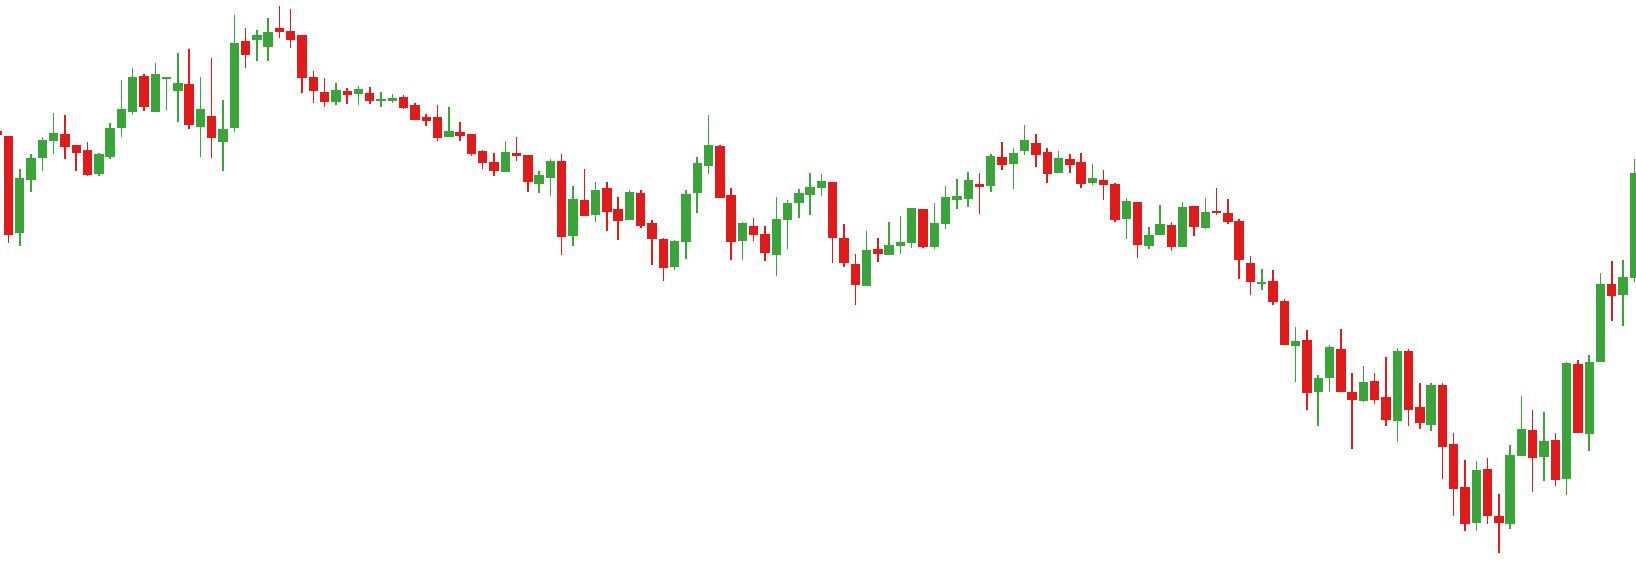buy: (767, 209, 874, 300)
sell: (579, 117, 727, 226)
